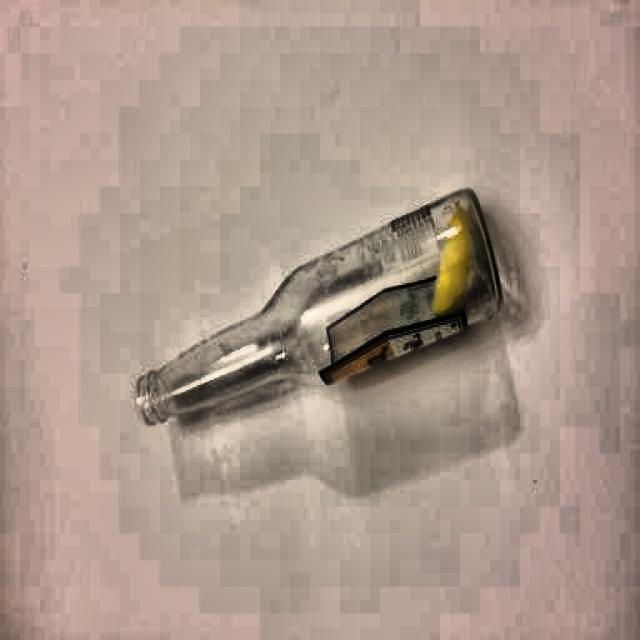glass: (131, 189, 501, 434)
